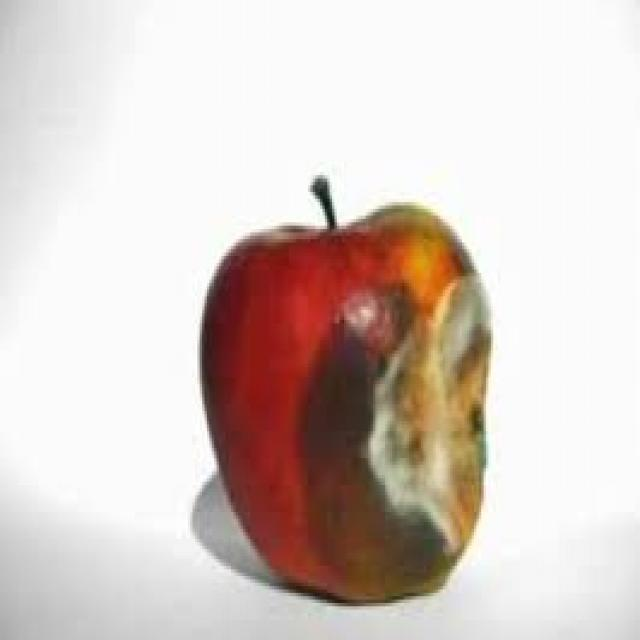organic waste: (195, 172, 493, 600)
